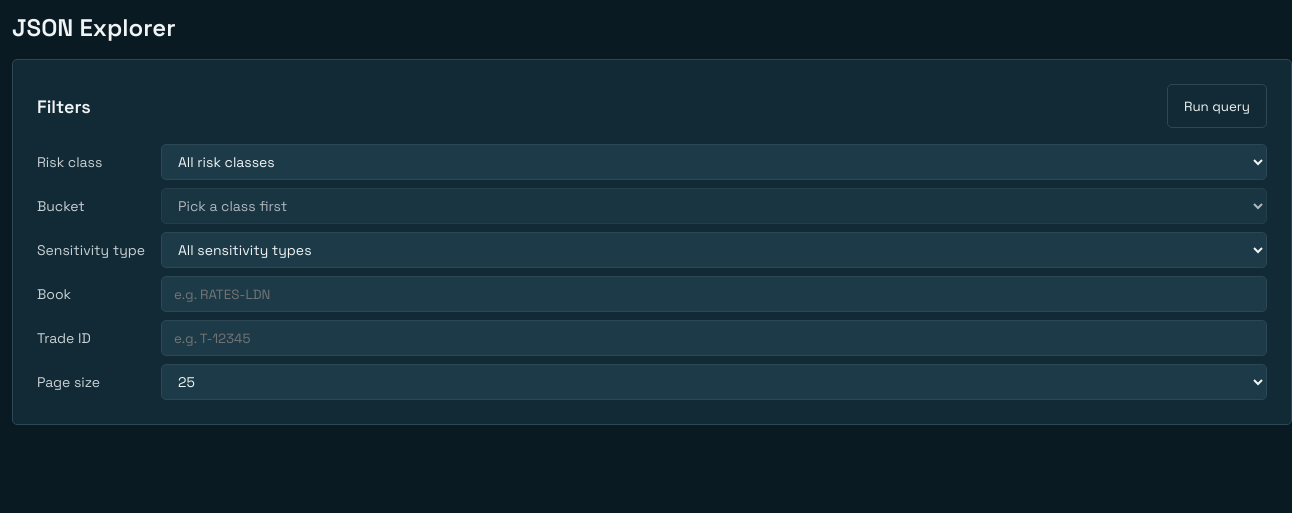
JsonExplorerPanel › renders an error state when the fetch fails
The image size is (1292, 513).
Click the button "Run query". click: (1217, 106)
box: top-left (1167, 84), bottom-right (1267, 128)
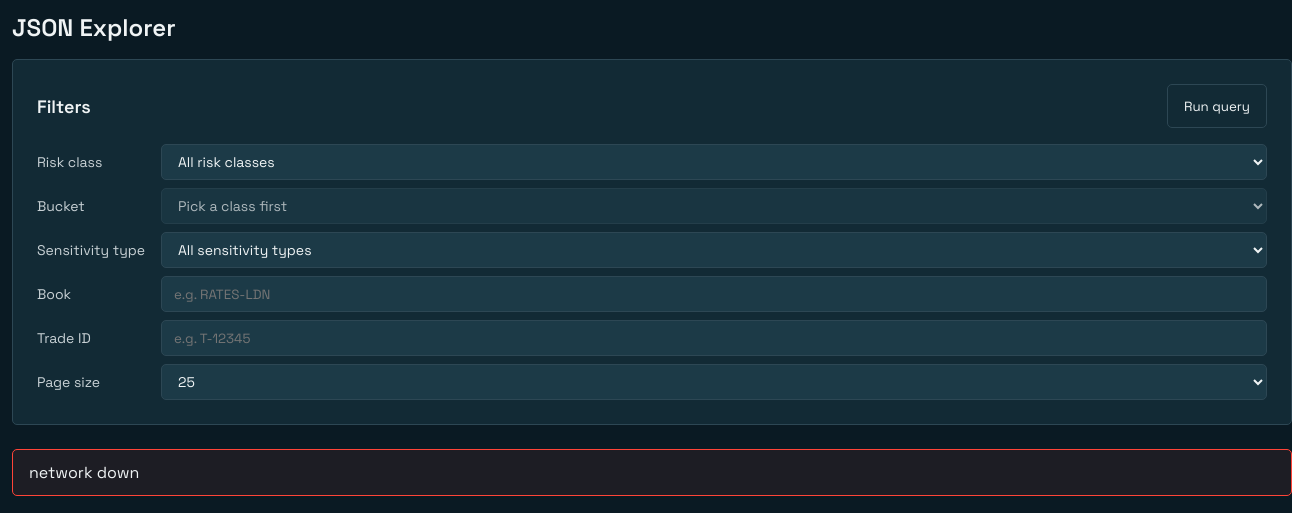
Result: the message reads "network down" at top-left (29, 462), bottom-right (139, 483)
